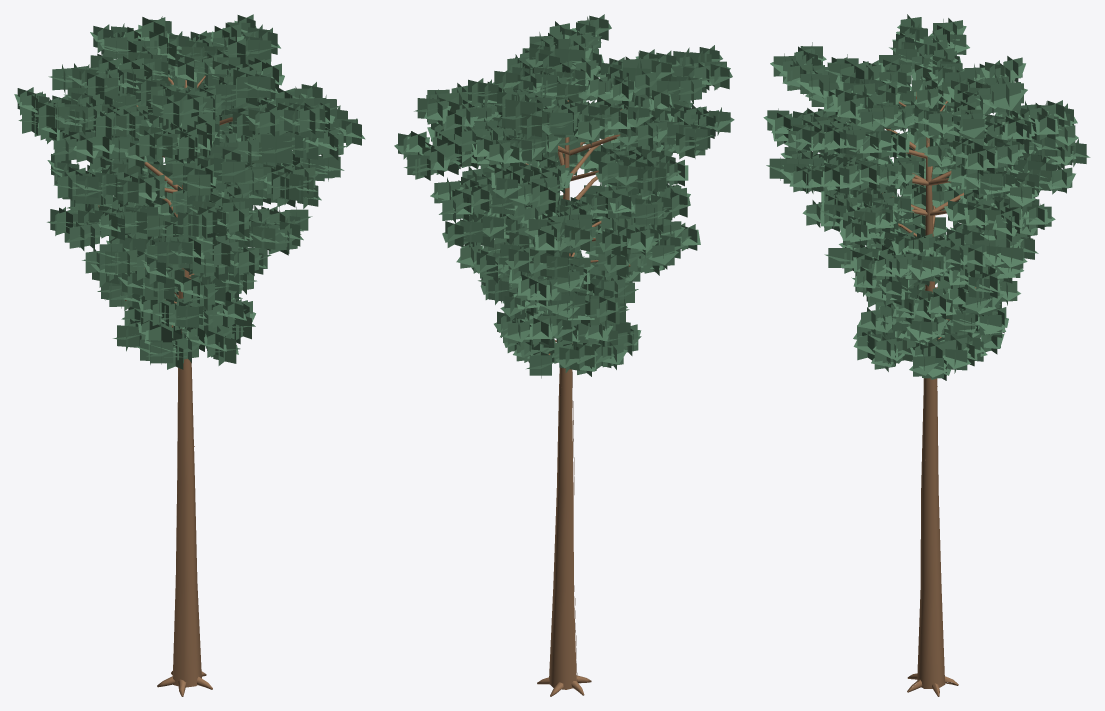
The model's file is pin_4_jeu.glb.
The picture shows the model from 3 angles, left to right: view 1: azimuth 30°, elevation 25°; view 2: azimuth 150°, elevation 25°; view 3: azimuth 270°, elevation 25°; orthographic projection. The views are drawn at different scales.
Visible parts, largest first — view 1: Pin_T4_Leger; view 2: Pin_T4_Leger; view 3: Pin_T4_Leger.
Part boxes in pixels (left/top/right/bottom): Pin_T4_Leger: left=14, top=14, right=365, bottom=696; Pin_T4_Leger: left=394, top=14, right=734, bottom=696; Pin_T4_Leger: left=763, top=14, right=1090, bottom=696.
Size of the model in its own units: 9.1 by 18.94 by 9.25.
